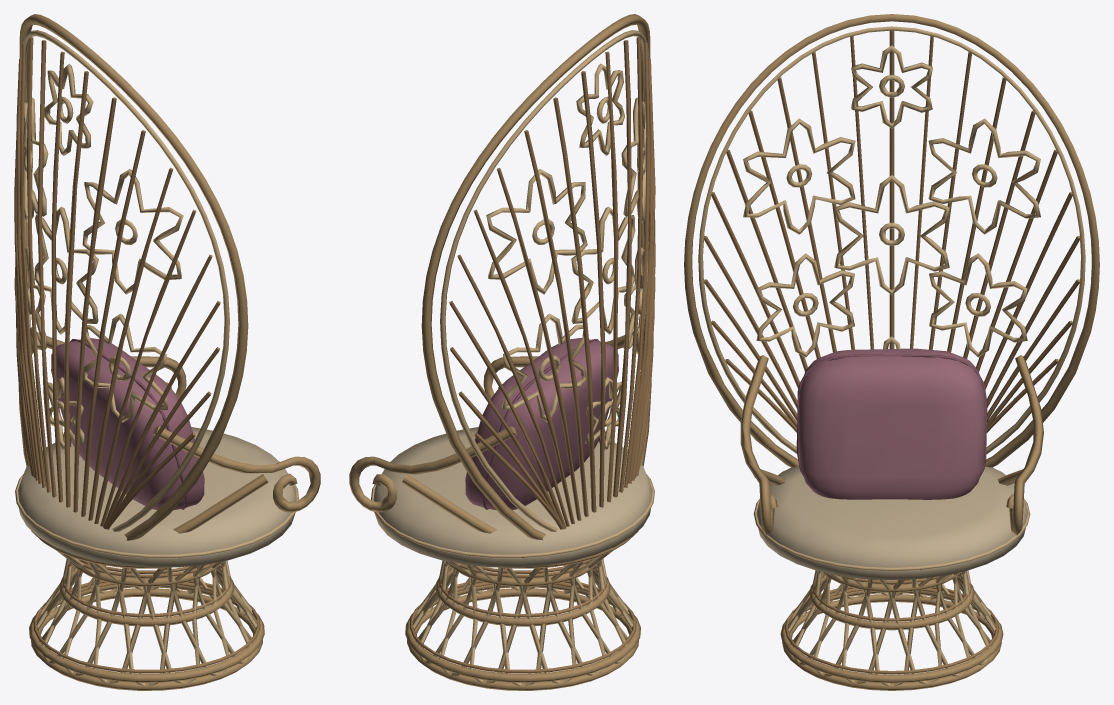
File: peacock.glb
3 renders of one model, left to right at view 1: azimuth 30°, elevation 25°; view 2: azimuth 150°, elevation 25°; view 3: azimuth 270°, elevation 25°, orthographic. The views are drawn at different scales.
Visible parts, largest first — view 1: Surface; view 2: Surface; view 3: Surface.
Part boxes in pixels (x1,y1,x2,y2): Surface: (14, 14, 320, 690); Surface: (349, 14, 655, 690); Surface: (684, 14, 1099, 690).
Size of the model in its own units: 0.8321 by 2.06 by 1.3.
